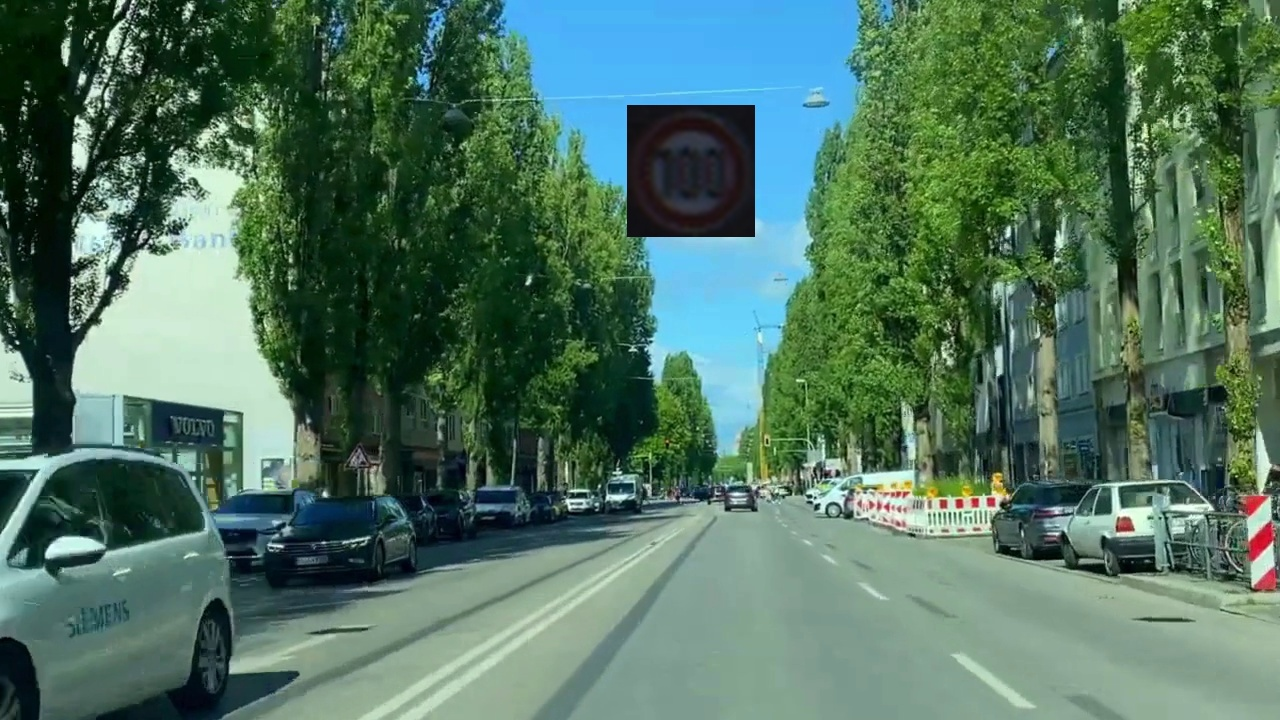Speed 100: (627, 105, 755, 237)
